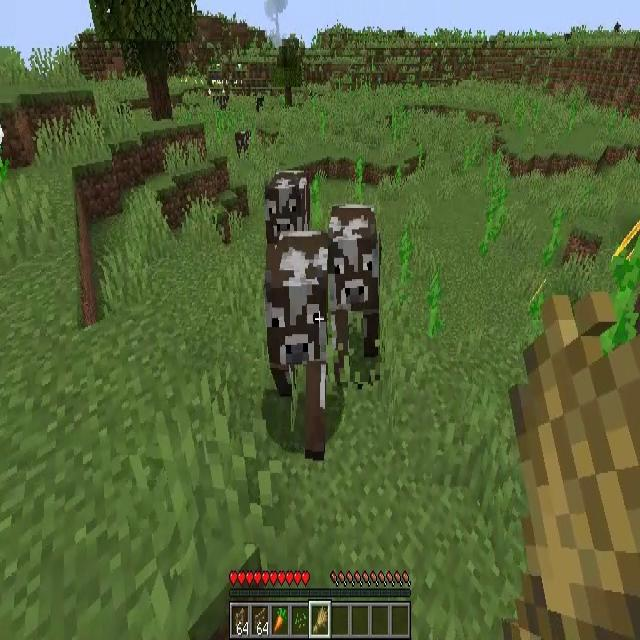cow: (267, 230, 326, 458), (328, 205, 380, 382), (267, 169, 311, 231), (234, 129, 252, 158), (213, 96, 229, 111)
sheep: (256, 98, 265, 112)
